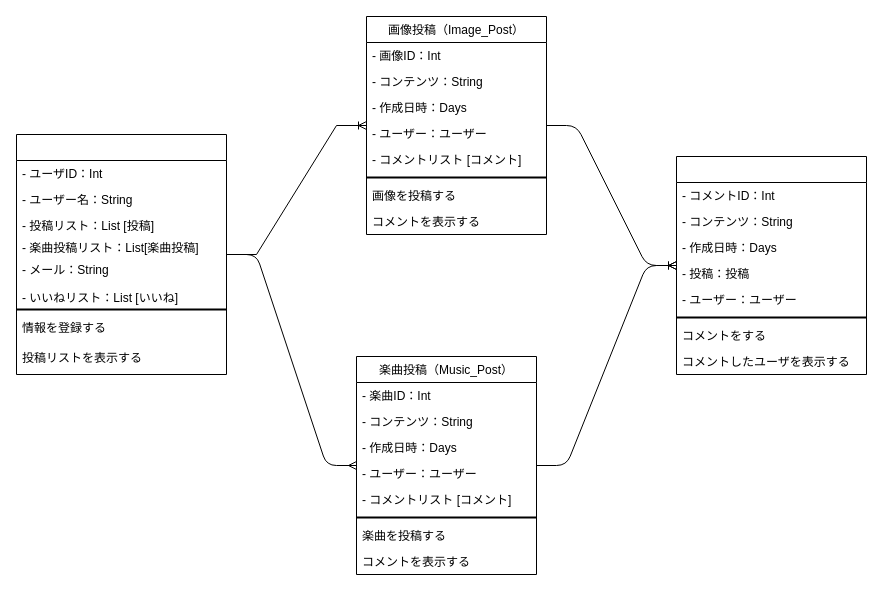
The diagram is 883 pixels wide and 591 high, and some of its shapes have lost their labels. The box of each missing label's shape, as (x1, y1, x2, y2) in pixels:
コメント（Comment): (676, 156, 866, 374)
ユーザー（User): (16, 134, 226, 374)
